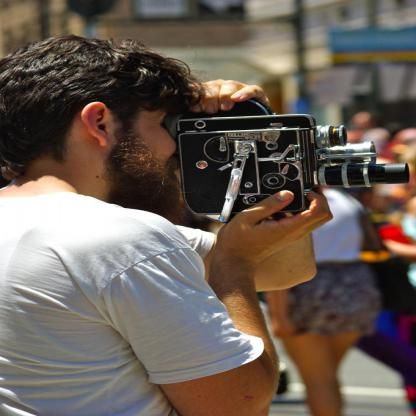Camera: (160, 90, 412, 234)
